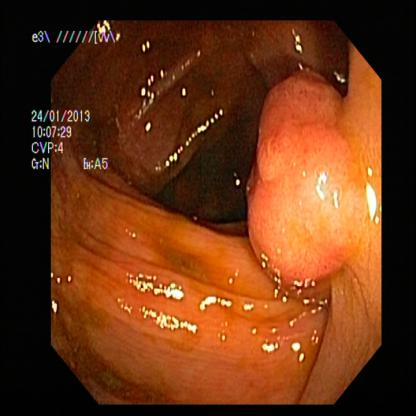Labels: (30, 24, 124, 176)
Polyps: (249, 80, 357, 284)
